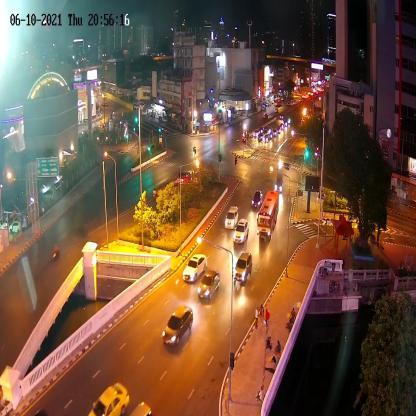bus: (257, 187, 279, 246)
car: (162, 302, 194, 350), (182, 252, 208, 284), (197, 268, 221, 302), (233, 250, 253, 287), (233, 217, 249, 246), (225, 203, 239, 232), (250, 191, 265, 210)
motorcycle: (52, 239, 60, 262)
truck: (274, 168, 284, 194)
